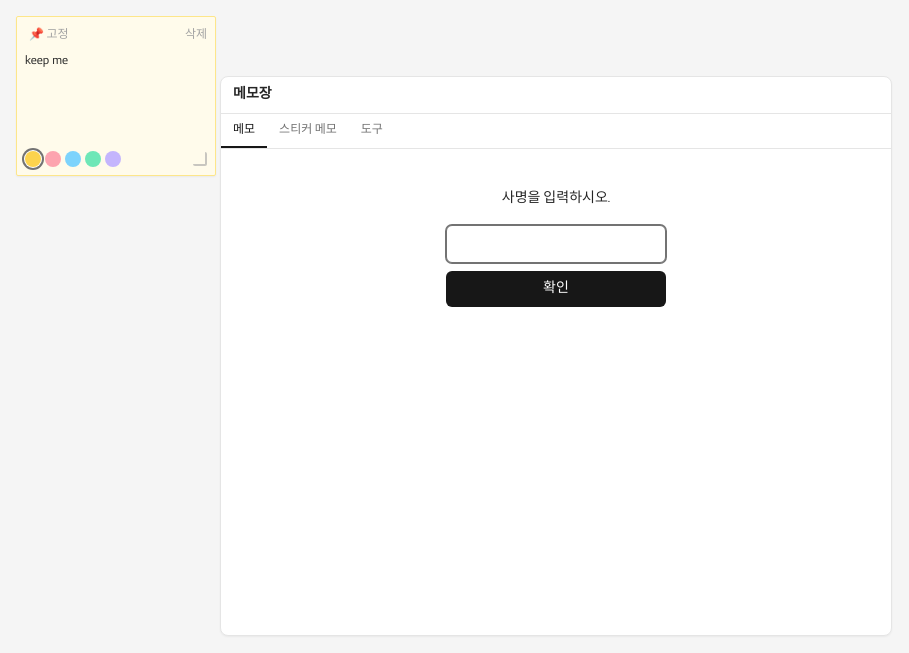
App navigation › Memo access gate › Test 6 — stays unlocked across the 플레이어 전환 (switch player) action itself
Step 1. Type "강박여" into the field named "사명을 입력하시오." → [556, 244], box [446,225,666,263]
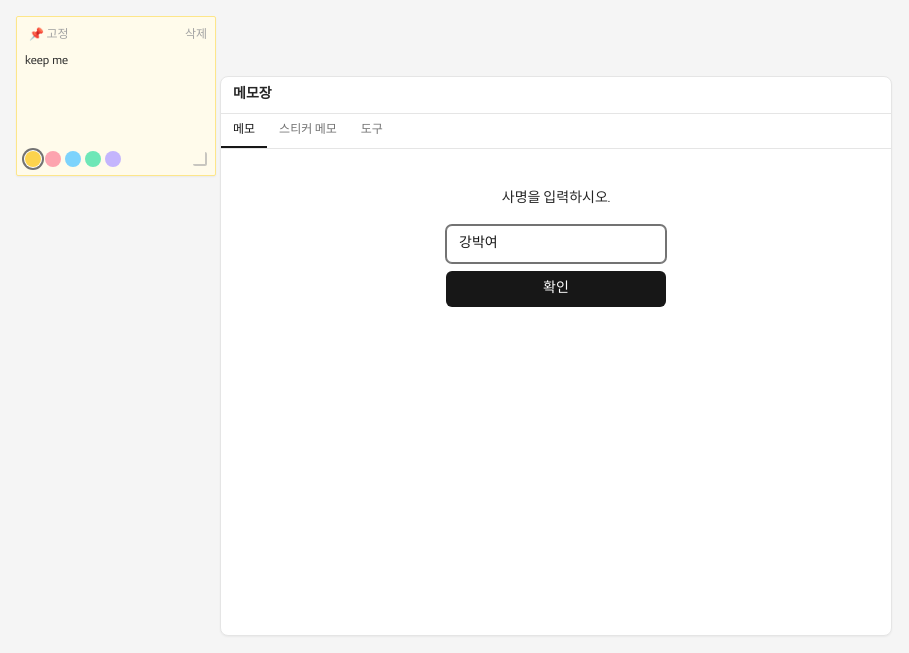
Step 2. Click the button "확인" → [556, 289], box [446,271,666,307]
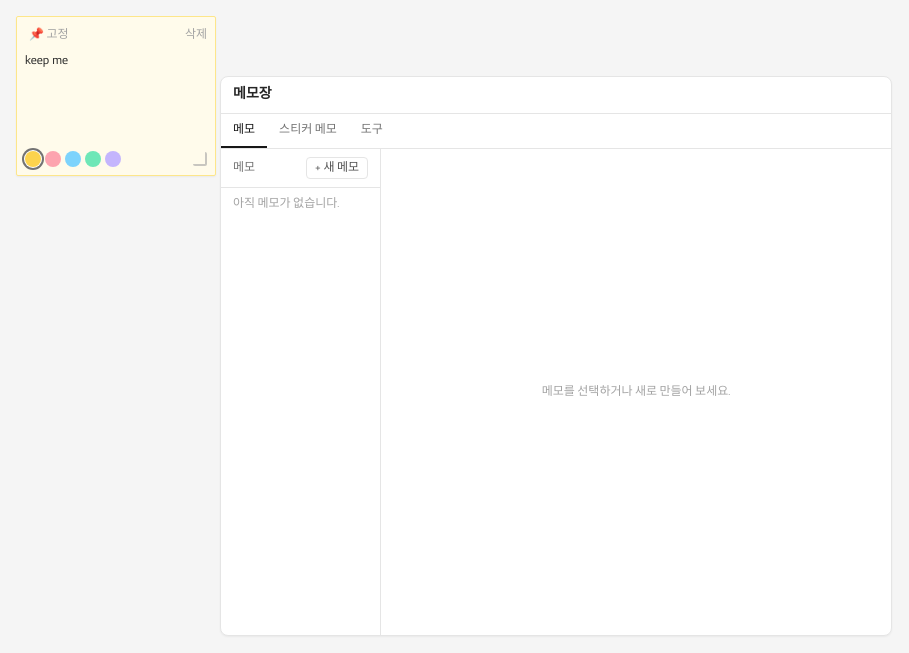
Check: the text "아직 메모가 없습니다." is shown, box [233,198,339,210]
Step 3. Click the button "도구" → [372, 131], box [349,114,395,148]
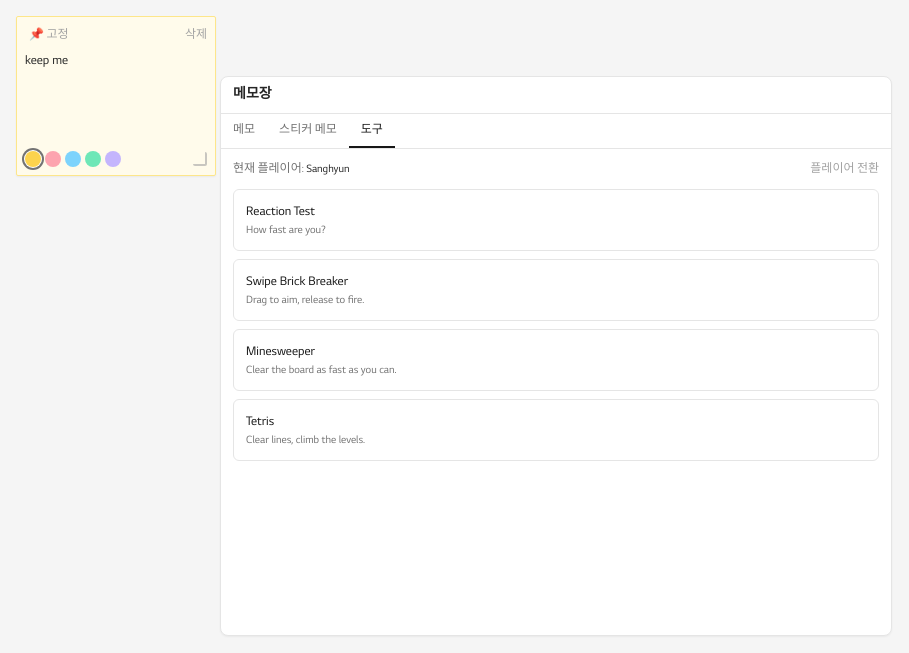
Step 4. Click the button "플레이어 전환" → [845, 169], box [810,161,879,177]
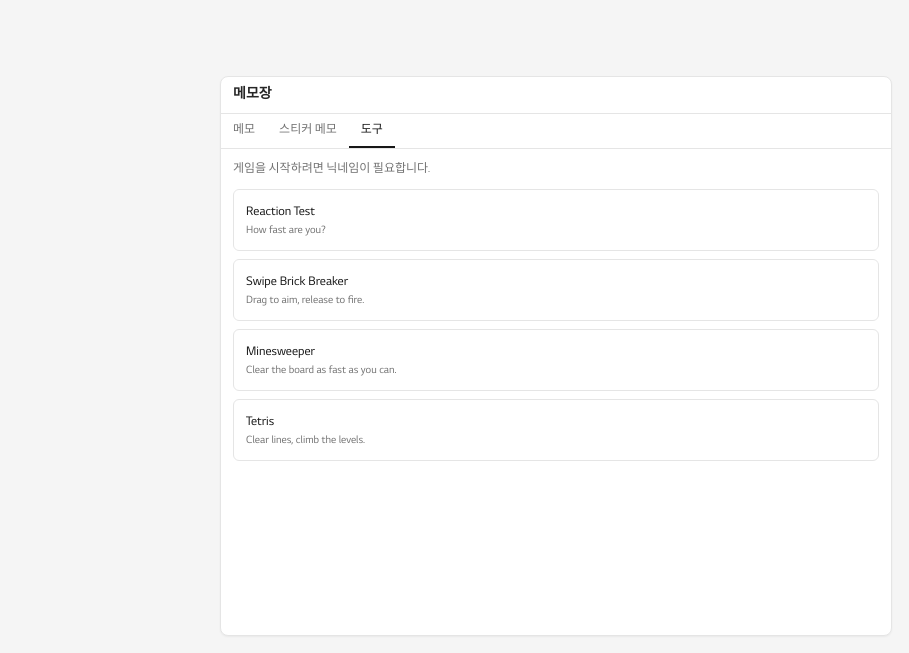
Step 5. Click the button "메모" → [244, 131], box [221,114,267,148]
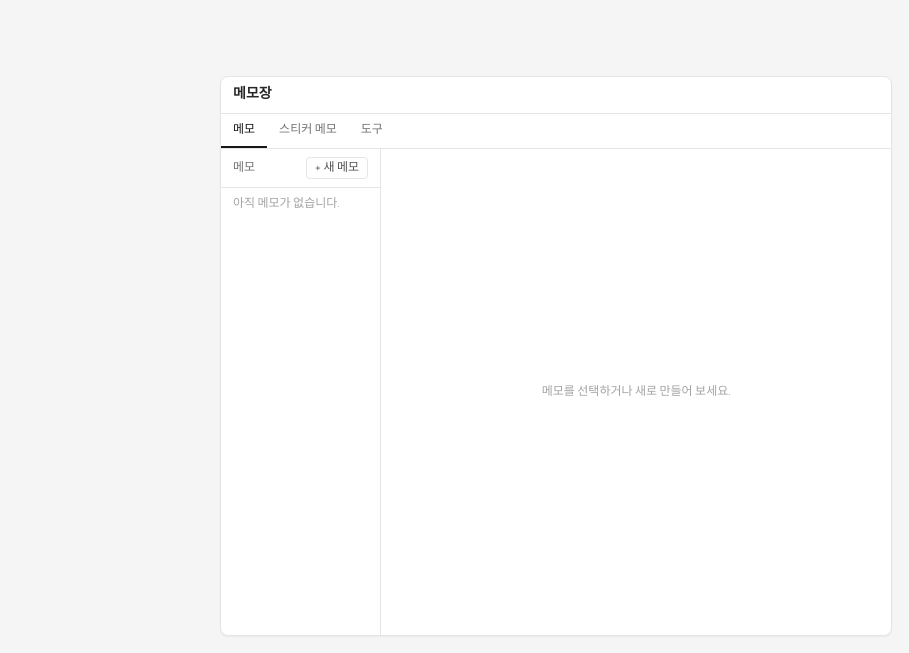
Check: the text "사명을 입력하시오." is not shown
Check: the text "아직 메모가 없습니다." is shown, box [233,198,339,210]
